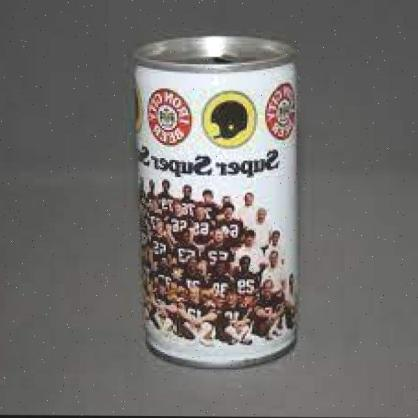can: (135, 35, 304, 367)
